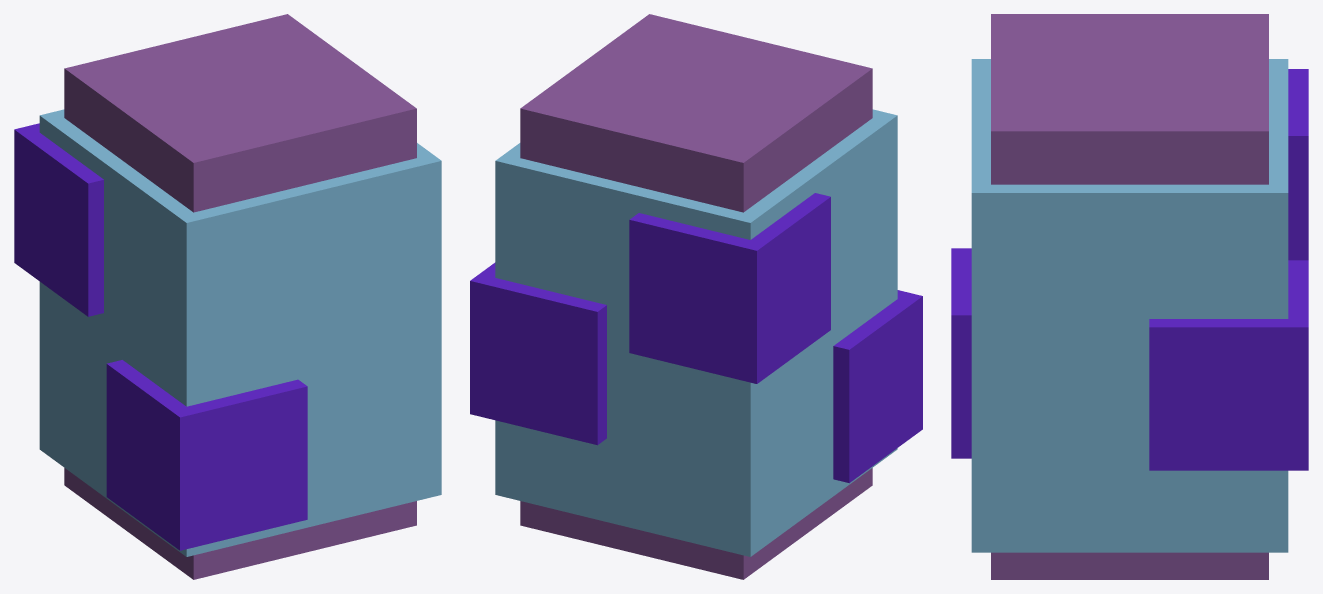
File: egg_shonisaurus.obj
3 views of the same model, side by side, from view 1: azimuth 30°, elevation 25°; view 2: azimuth 150°, elevation 25°; view 3: azimuth 270°, elevation 25° (orthographic). The views are drawn at different scales.
Parts seen in each view (by area): view 1: egg_shonisaurus; view 2: egg_shonisaurus; view 3: egg_shonisaurus.
Boxes of the visible parts, x1=… form: egg_shonisaurus: x1=14, y1=14, x2=441, y2=579; egg_shonisaurus: x1=470, y1=14, x2=922, y2=579; egg_shonisaurus: x1=951, y1=14, x2=1308, y2=579.
Size of the model in its own units: 3.88 by 5.38 by 3.88.
